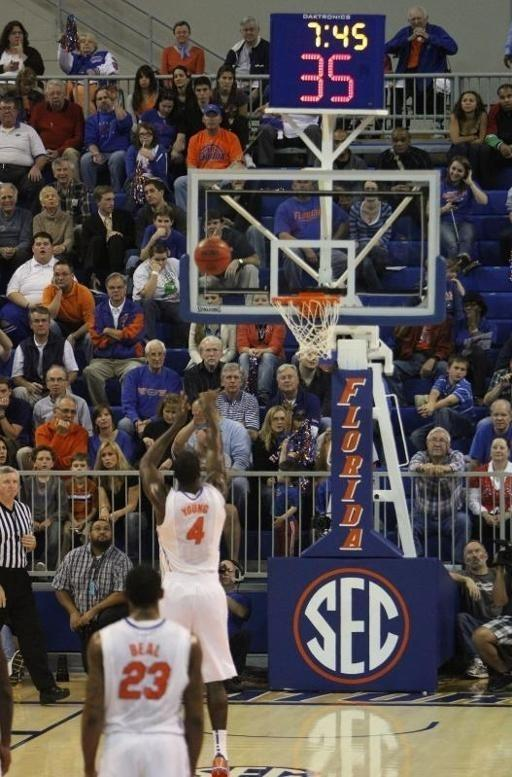basketball-player: (137, 390, 239, 775), (79, 555, 217, 777)
